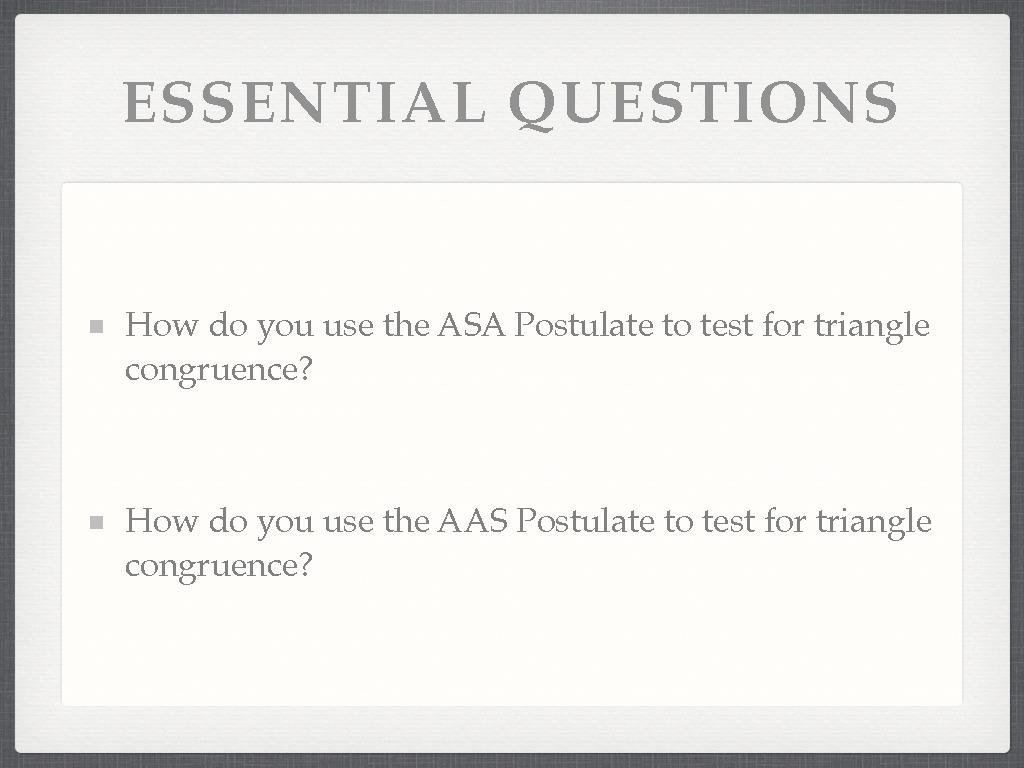paragraph: (43, 236, 978, 658)
title: (119, 63, 921, 152)
